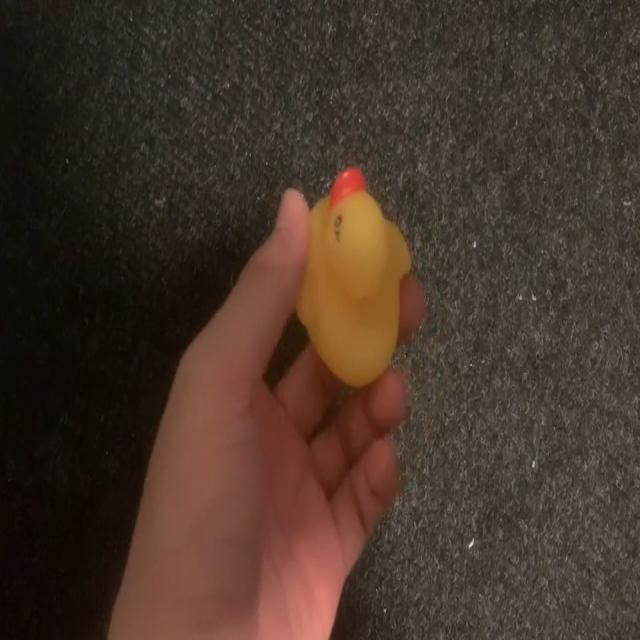rubber-duck: (296, 167, 409, 385)
